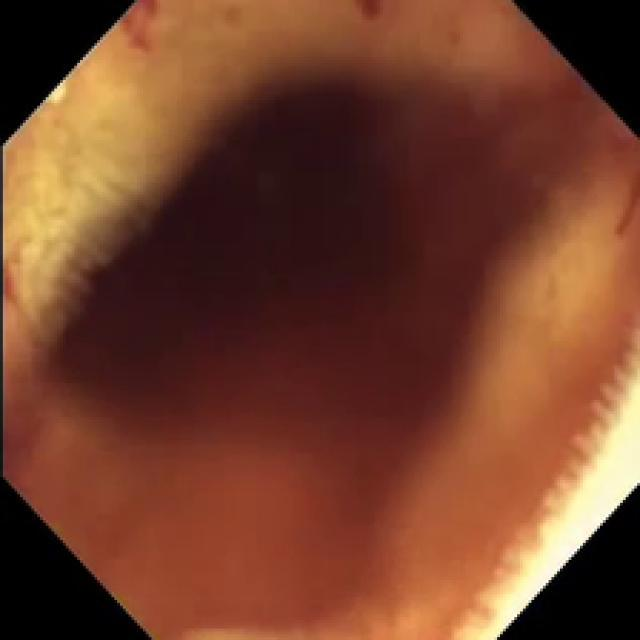bleeding: (0, 288, 640, 640), (394, 58, 640, 276), (114, 0, 183, 63)
